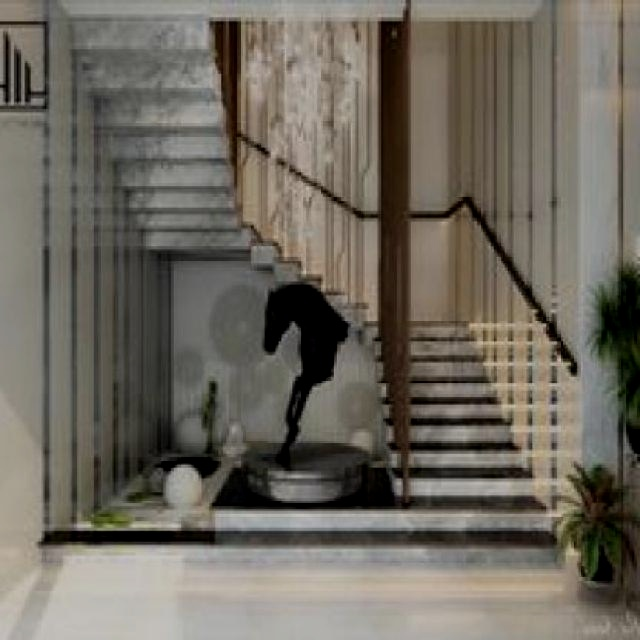stair: (380, 216, 545, 547)
